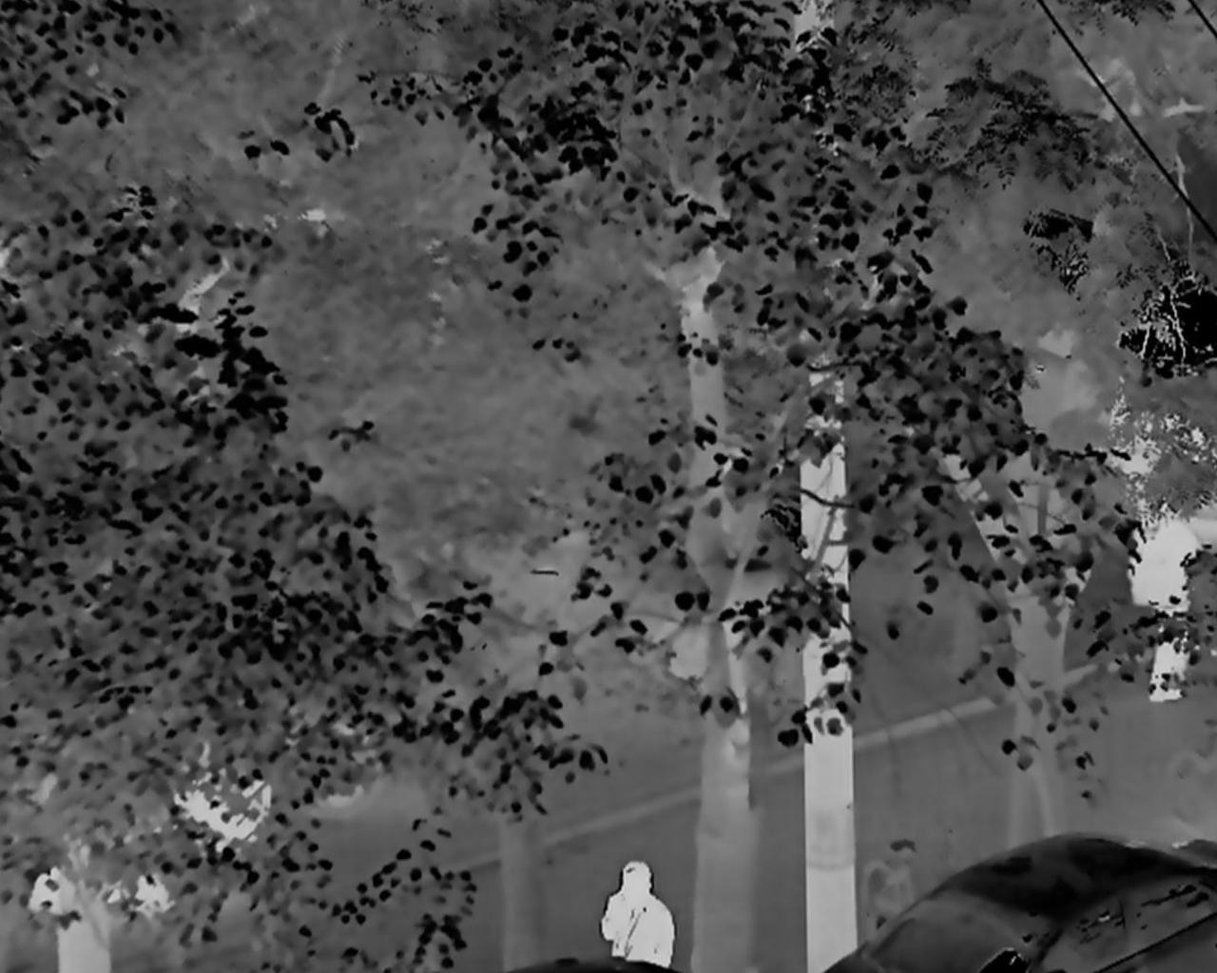person: (1131, 486, 1206, 705), (600, 863, 675, 973)
